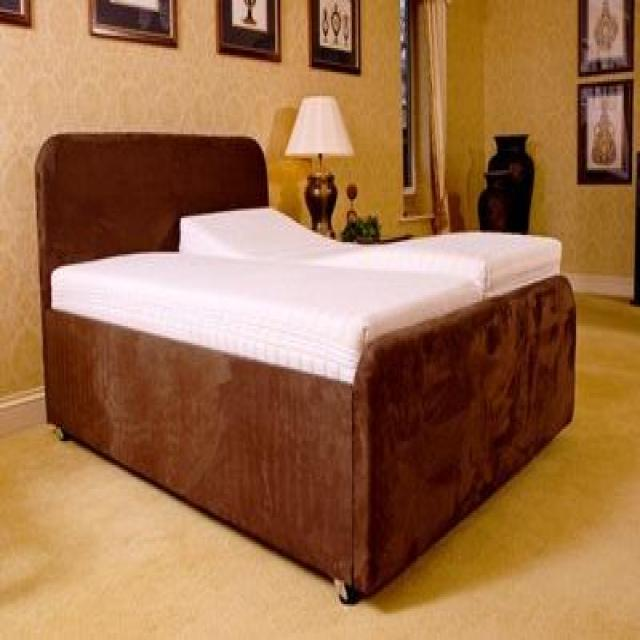bed: (36, 126, 576, 604)
